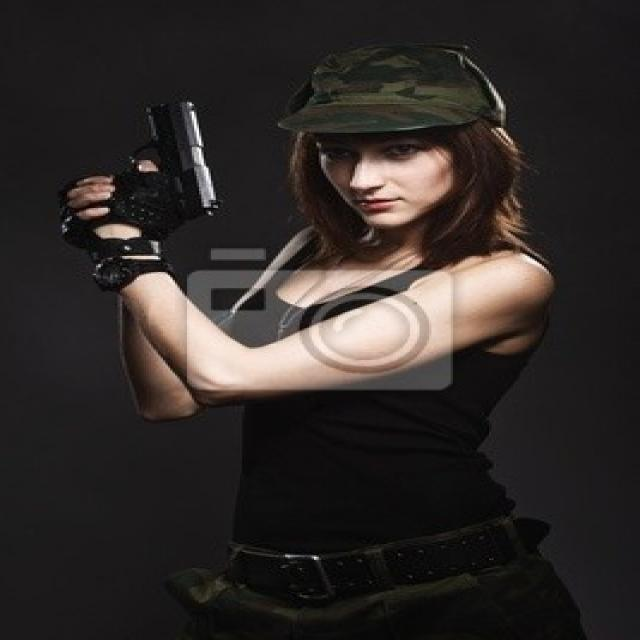gun: (33, 73, 243, 275)
